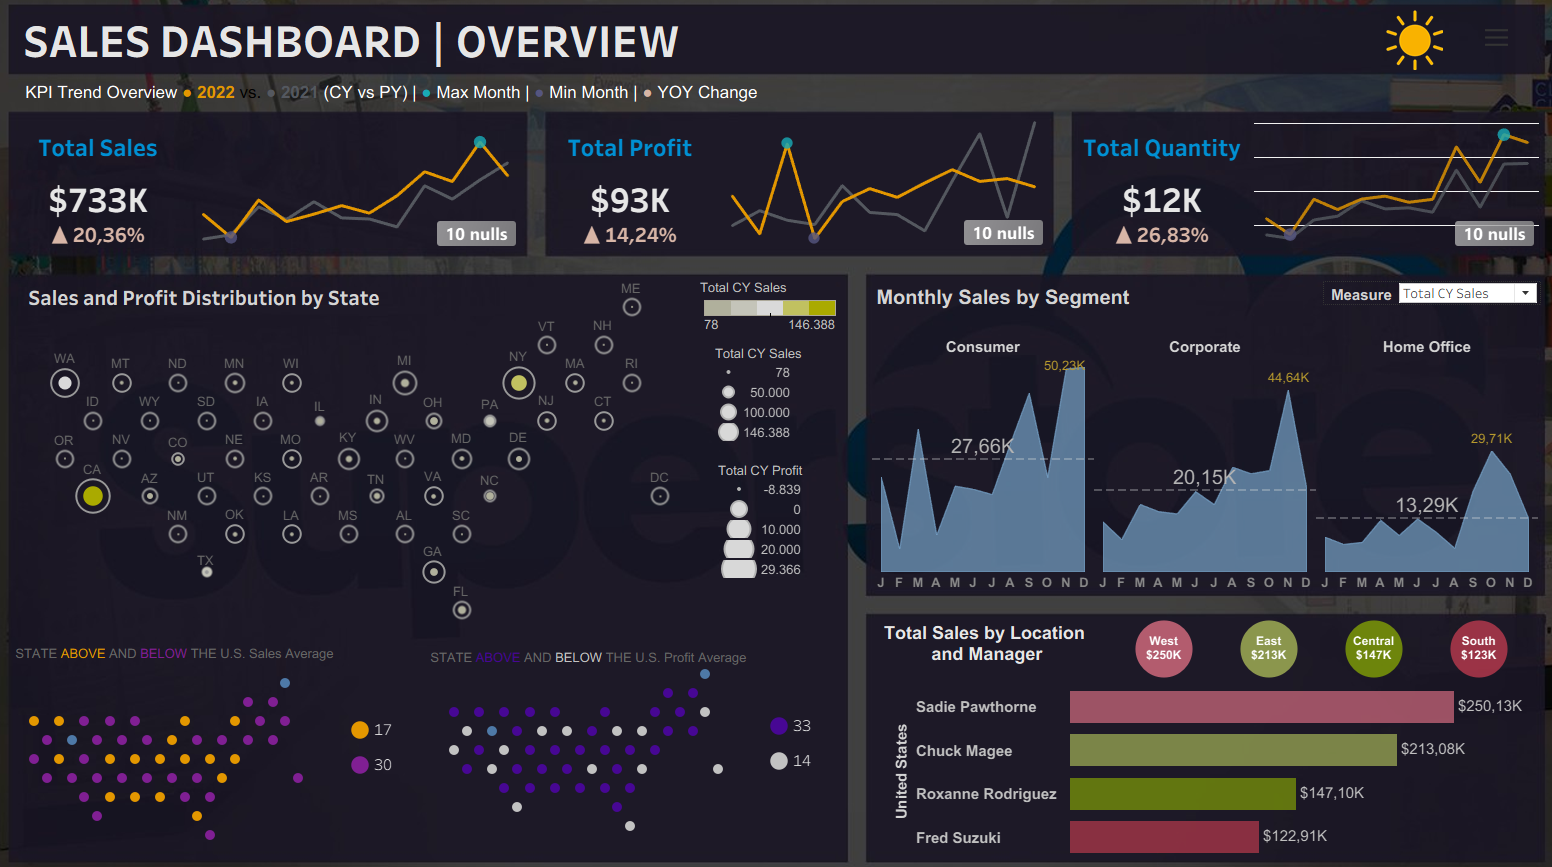

What the dashboard file says about the page in this screenshot:
{"tool":"tableau","page":{"name":"Sales Dashboard","canvas":[1600,900],"ordinal":0},"visuals":[{"type":"image","param":"Image/Sales Dashboard Background img.jpg","box":[8,8,1584,884]},{"type":"text","box":[42,9,846,94]},{"type":"dashboard-object","box":[1349,27,175,60]},{"type":"dashboard-object","box":[1506,40,25,29]},{"type":"filter","title":"Sales and Profit by State","param":"[federated.1jslovf1td6a3t1cx7vjw1skrsrb].[none:Category:nk]","box":[1307,91,193,77]},{"type":"text","box":[44,92,917,34]},{"type":"worksheet","title":"Sales KPI","mark":"Automatic","box":[33,130,174,142]},{"type":"worksheet","title":"Sales Sparkline","mark":"Automatic","rows":["Calculation_1239480993312781"],"cols":["Order Date"],"box":[207,130,339.8,142]},{"type":"worksheet","title":"Profit KPI","mark":"Automatic","box":[568,130,168,141]},{"type":"worksheet","title":"Profit Sparkline","mark":"Automatic","rows":["Min Max Month Sales (copy)_1239480997572622"],"cols":["Order Date"],"box":[736,130,337.9,141]},{"type":"worksheet","title":"Qty KPI","mark":"Automatic","box":[1095,130,177,142]},{"type":"worksheet","title":"Qty Sparkline","mark":"Automatic","rows":["Min Max Month Sales (copy)_1239480999002127"],"cols":["Order Date"],"box":[1272,130,293,142]},{"type":"filter","title":"Sales and Profit by State","param":"[federated.1jslovf1td6a3t1cx7vjw1skrsrb].[none:Region:nk]","box":[1307,168,193,76]},{"type":"filter","title":"Sales and Profit by State","param":"[federated.1jslovf1td6a3t1cx7vjw1skrsrb].[none:Ship Mode:nk]","box":[1307,244,193,76]},{"type":"worksheet","title":"Sales and Profit by State","mark":"Circle","rows":["Row"],"cols":["Column","Column"],"box":[43,286,678,379]},{"type":"text","box":[47,289,393,49]},{"type":"legend","title":"Sales and Profit by State","param":"[federated.1jslovf1td6a3t1cx7vjw1skrsrb].[sum:Calculation_1101767049629696:qk]","box":[722,297,140,88]},{"type":"parameter","param":"[Parameters].[Parameter 1006111943872512]","box":[1345,298,218,24]},{"type":"text","box":[895,299,282,30]},{"type":"worksheet","title":"Monthly Sales by Segment","mark":"Area","rows":["Calculation_1006111944482817"],"cols":["Segment","Order Date"],"box":[894,354,666,255]},{"type":"legend","title":"Sales and Profit by State","param":"[federated.1jslovf1td6a3t1cx7vjw1skrsrb].[sum:Calculation_1101767049629696:qk]","box":[737,363,140,106]},{"type":"legend","title":"Sales and Profit by State","param":"[federated.1jslovf1td6a3t1cx7vjw1skrsrb].[sum:Total CY Sales (copy)_123948098728","box":[740,480,140,127]},{"type":"worksheet","title":"Region wise Sales","mark":"Circle","cols":["Region"],"box":[1133,634,420,63]},{"type":"text","box":[854,636,305,50]},{"type":"text","box":[34,656,325,30]},{"type":"text","box":[449,660,323,30]},{"type":"worksheet","title":"Average Profit by State","mark":"Circle","rows":["Row"],"cols":["Column"],"box":[458,672,300,190]},{"type":"worksheet","title":"Average Sales by State","mark":"Circle","rows":["Row"],"cols":["Column"],"box":[38,681,300,190]},{"type":"worksheet","title":"Total Sales by Location and Manager","mark":"Automatic","rows":["Country/Region","Regional Manager"],"cols":["Calculation_1101767049629696"],"box":[892,702,676,174]},{"type":"worksheet","title":"Avg Profit by State count ","mark":"Circle","rows":["Sales Average Color (copy)_1309851801698308"],"box":[766,725,70,70]},{"type":"worksheet","title":"Avg Sales by State count ","mark":"Circle","rows":["Calculation_0821942183194626"],"box":[347,729,70,70]}]}

Visuals, with their boxes in screenshot pixels (x1, y1, x2, y2), scaled from the page's 1600x900 canvas onto the 1552x867 screenshot:
image: Rect(8, 8, 1544, 859)
text: Rect(41, 9, 861, 99)
dashboard-object: Rect(1309, 26, 1478, 84)
dashboard-object: Rect(1461, 39, 1485, 66)
"Sales and Profit by State" filter: Rect(1268, 88, 1455, 162)
text: Rect(43, 89, 932, 121)
"Sales KPI" worksheet: Rect(32, 125, 201, 262)
"Sales Sparkline" worksheet: Rect(201, 125, 530, 262)
"Profit KPI" worksheet: Rect(551, 125, 714, 261)
"Profit Sparkline" worksheet: Rect(714, 125, 1042, 261)
"Qty KPI" worksheet: Rect(1062, 125, 1234, 262)
"Qty Sparkline" worksheet: Rect(1234, 125, 1518, 262)
"Sales and Profit by State" filter: Rect(1268, 162, 1455, 235)
"Sales and Profit by State" filter: Rect(1268, 235, 1455, 308)
"Sales and Profit by State" worksheet (Circle marks): Rect(42, 276, 699, 641)
text: Rect(46, 278, 427, 326)
"Sales and Profit by State" legend: Rect(700, 286, 836, 371)
parameter: Rect(1305, 287, 1516, 310)
text: Rect(868, 288, 1142, 317)
"Monthly Sales by Segment" worksheet (Area marks): Rect(867, 341, 1513, 587)
"Sales and Profit by State" legend: Rect(715, 350, 851, 452)
"Sales and Profit by State" legend: Rect(718, 462, 854, 585)
"Region wise Sales" worksheet (Circle marks): Rect(1099, 611, 1506, 671)
text: Rect(828, 613, 1124, 661)
text: Rect(33, 632, 348, 661)
text: Rect(436, 636, 749, 665)
"Average Profit by State" worksheet (Circle marks): Rect(444, 647, 735, 830)
"Average Sales by State" worksheet (Circle marks): Rect(37, 656, 328, 839)
"Total Sales by Location and Manager" worksheet: Rect(865, 676, 1521, 844)
"Avg Profit by State count " worksheet (Circle marks): Rect(743, 698, 811, 766)
"Avg Sales by State count " worksheet (Circle marks): Rect(337, 702, 404, 770)
